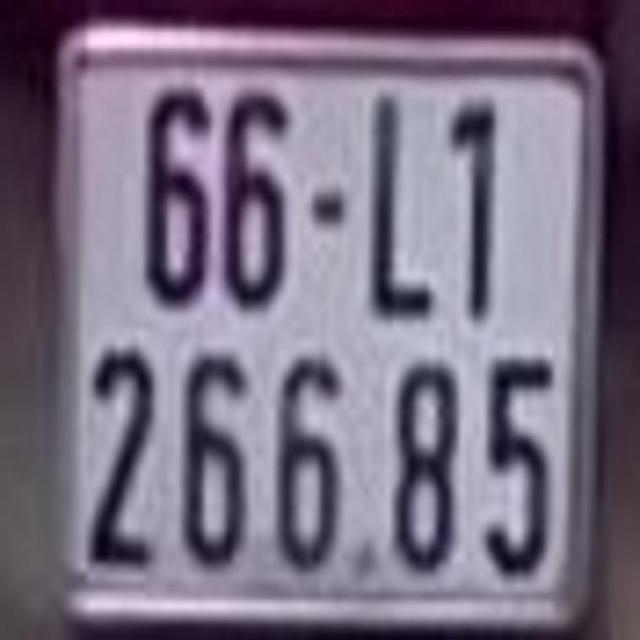1: (452, 98, 498, 317)
2: (95, 349, 156, 570)
5: (486, 358, 550, 576)
6: (143, 96, 206, 302), (222, 96, 280, 313), (279, 354, 334, 573), (186, 358, 241, 566)
8: (397, 360, 454, 575)
L: (364, 101, 432, 314)
